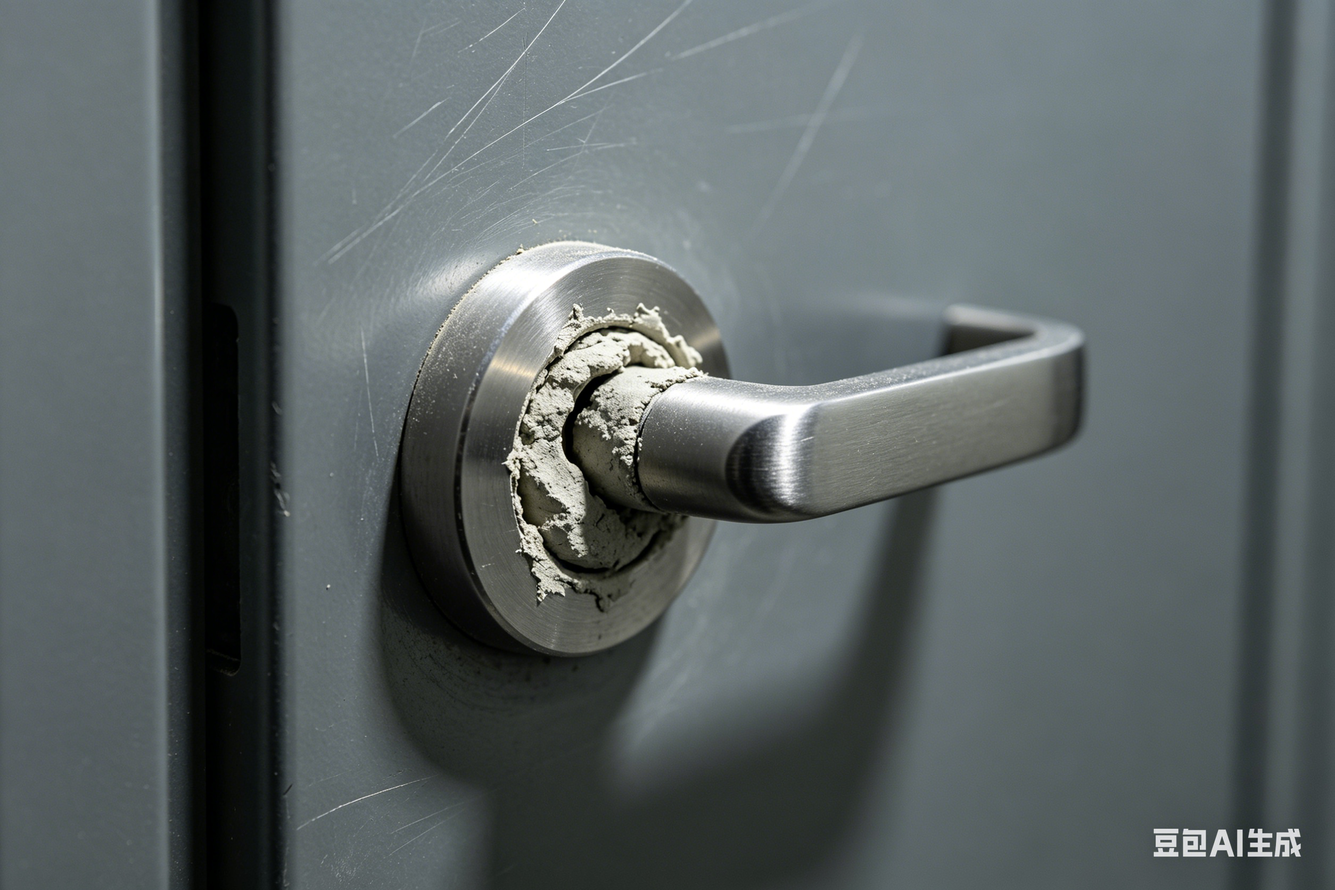BadLock: (514, 316, 649, 569)
